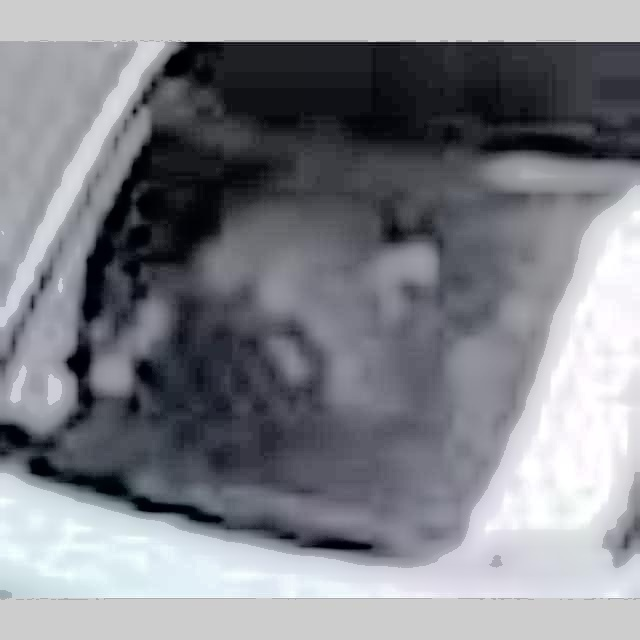tidak-pakai: (148, 163, 445, 496)
